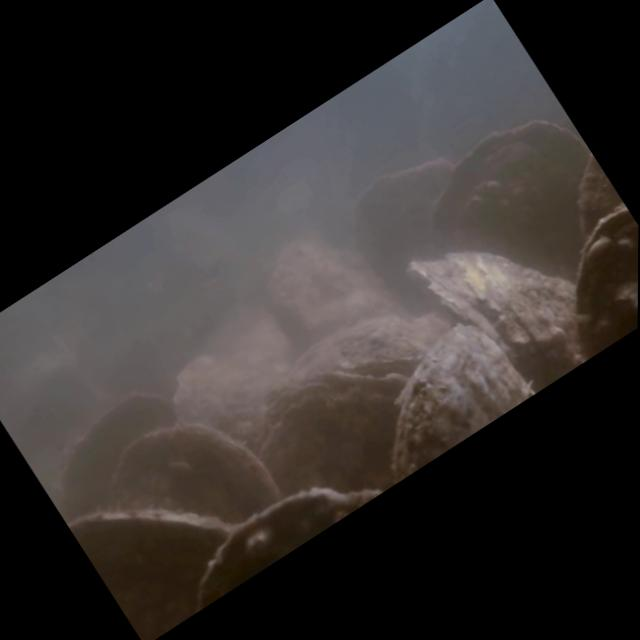Oyster-Closed: (380, 321, 538, 485), (424, 116, 588, 263), (199, 485, 380, 604), (66, 501, 234, 629), (256, 368, 410, 496), (405, 247, 576, 352), (102, 422, 281, 518), (257, 238, 396, 352), (276, 307, 457, 389), (353, 157, 453, 298), (56, 390, 166, 506), (168, 353, 291, 441), (574, 205, 638, 356), (576, 155, 620, 244)
